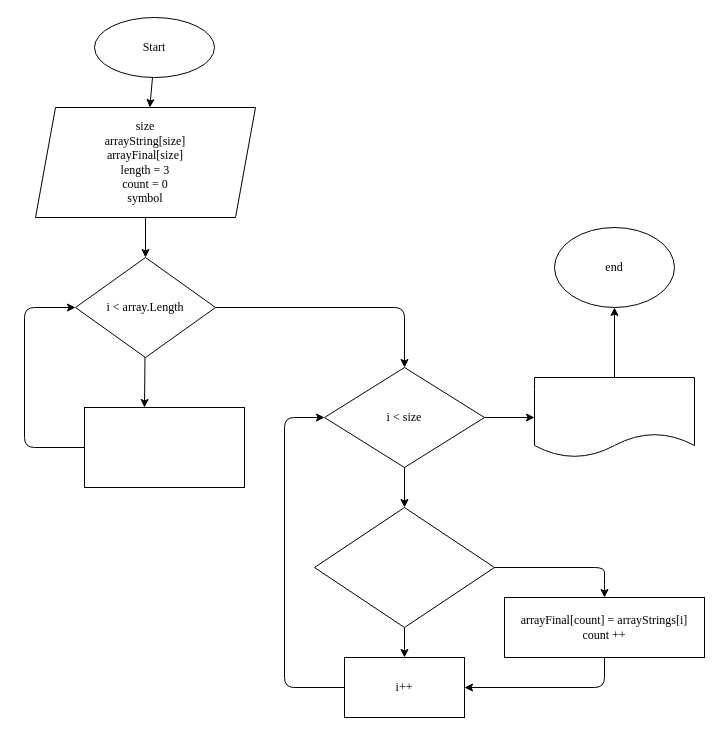
The diagram is 722 pixels wide and 735 high, and some of its shapes have lost their labels. Each missing label, with the centre of its shape:
arrayStrings[i].Length <= length: [404,567]
PrintArray(arrayFinal): [614,417]
symbol = Console.RedLine() arrayStrings[i] = symbol i++: [164,447]
